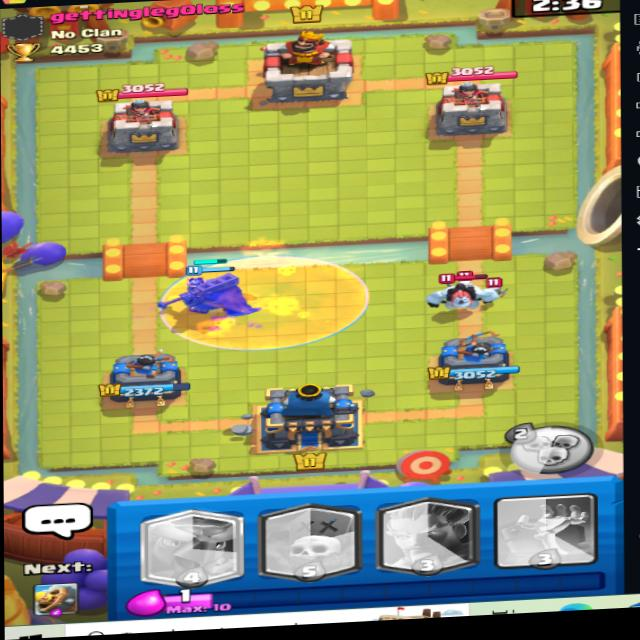Icegolem: (431, 273, 500, 313)
Skeleton: (444, 269, 479, 289), (483, 276, 506, 297)
